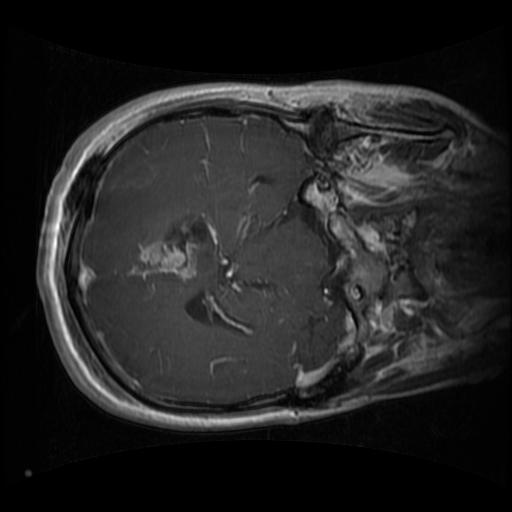glioma: (122, 211, 218, 286)
